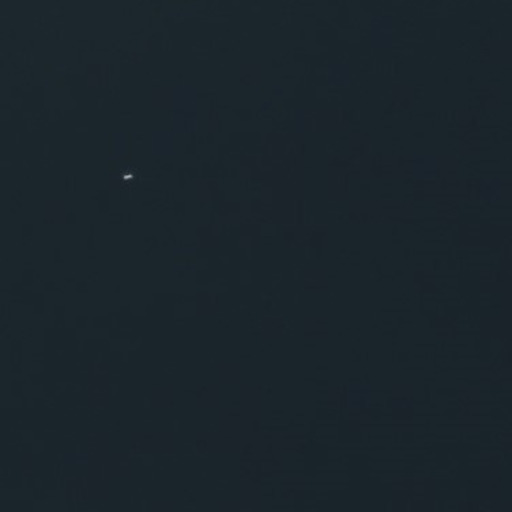ship: (119, 171, 136, 182)
